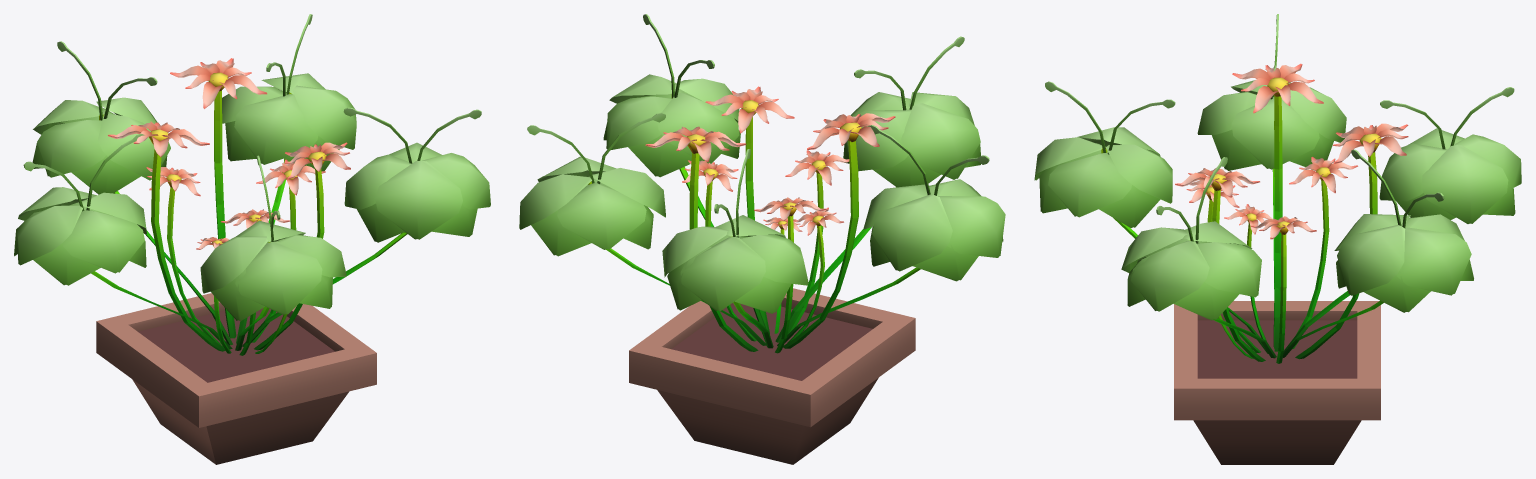
Rendered from wp_wPot_29.fbx.
The picture shows the model from 3 angles, left to right: view 1: azimuth 30°, elevation 25°; view 2: azimuth 150°, elevation 25°; view 3: azimuth 270°, elevation 25°; orthographic projection. The views are drawn at different scales.
Visible parts, largest first — view 1: w_pl29; view 2: w_pl29; view 3: w_pl29.
Boxes of the visible parts, x1,y1,x2,y2 form: w_pl29: (14,14,490,464); w_pl29: (519,14,1005,464); w_pl29: (1034,14,1521,464).
Bounding box in the file's own units: 259 × 192 × 259.
